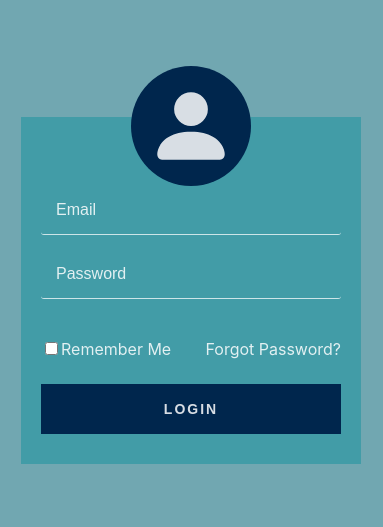
Test the Login component › submitting the form with an invalid password format should display an error message
Type "password123" into the password field with placeholder "Password".
click(191, 274); type("password123")  # box [41, 250, 341, 298]
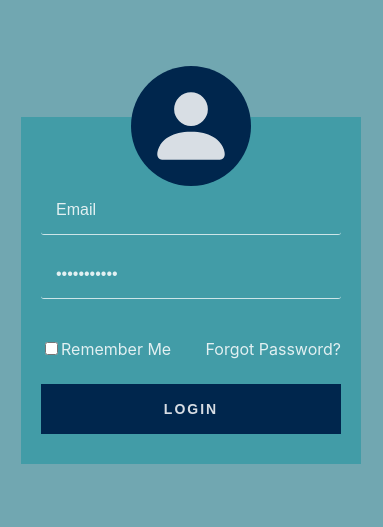
Click the button with test id "submit".
click(191, 408)  # box [41, 384, 341, 434]
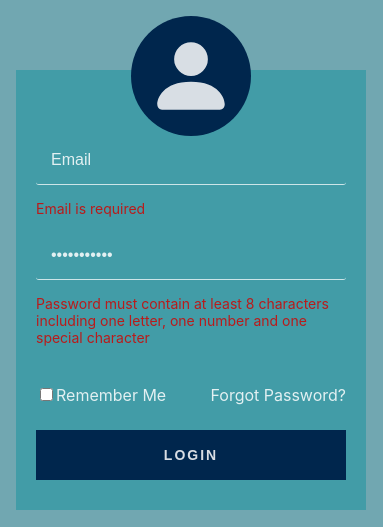
Expected: the text "Password must contain at least 8 characters including one letter, one number and one special character" is shown, [36, 295, 329, 346]
